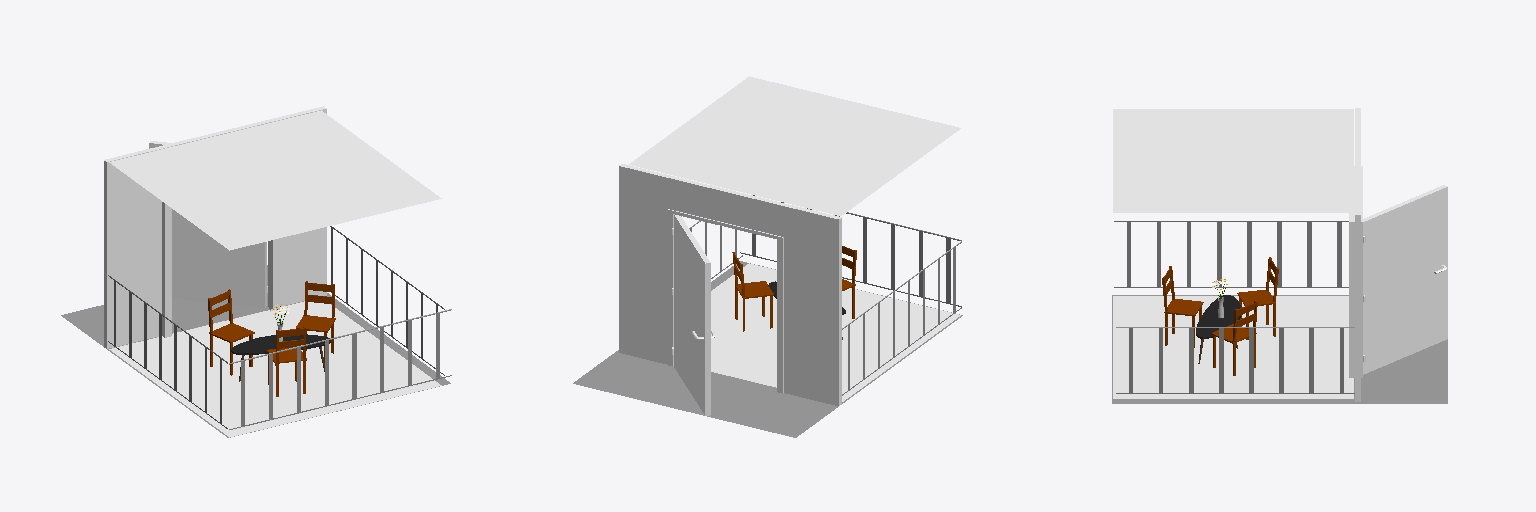
File: Terraza.obj
The picture shows the model from 3 angles: view 1: azimuth 30°, elevation 25°; view 2: azimuth 150°, elevation 25°; view 3: azimuth 270°, elevation 25°; orthographic projection.
Visible parts, largest first — view 1: room_4_9, room_4_8, wall_2_5, sweethome3d_opening_on_hinge_1_door_33, ground_1, Railings_21, frame_25, Railings_16, Railings_11, Table_36; view 2: room_4_9, wall_2_4, room_4_8, ground_1, sweethome3d_opening_on_hinge_1_door_33, frame_25, Railings_21, Railings_16; view 3: room_4_9, room_4_8, sweethome3d_opening_on_hinge_1_door_33, ground_1, Railings_11, Railings_16, frame_25, Table_36, wall_2_4, wall_2_5.
Part boxes in pixels (x1,y1,x2,y2): room_4_9: (109, 110, 441, 250); room_4_8: (109, 301, 441, 437); wall_2_5: (105, 109, 326, 348); sweethome3d_opening_on_hinge_1_door_33: (149, 141, 266, 308); ground_1: (61, 265, 450, 437); Railings_21: (241, 313, 439, 425); frame_25: (162, 202, 279, 337); Railings_16: (114, 281, 221, 423); Railings_11: (331, 227, 437, 358); Table_36: (231, 334, 330, 352); room_4_9: (629, 76, 960, 215); wall_2_4: (619, 166, 840, 405); room_4_8: (711, 263, 960, 401); ground_1: (573, 261, 962, 437); sweethome3d_opening_on_hinge_1_door_33: (674, 215, 710, 415); frame_25: (668, 209, 783, 392); Railings_21: (752, 195, 950, 303); Railings_16: (848, 247, 955, 389); room_4_9: (1113, 109, 1353, 212); room_4_8: (1113, 296, 1353, 398); sweethome3d_opening_on_hinge_1_door_33: (1363, 185, 1447, 374); ground_1: (1112, 295, 1447, 403); Railings_11: (1129, 328, 1343, 392); Railings_16: (1127, 222, 1341, 286); frame_25: (1349, 166, 1362, 377); Table_36: (1196, 295, 1240, 336); wall_2_4: (1358, 215, 1360, 401); wall_2_5: (1355, 215, 1357, 401).
Bounding box in the file's own units: 313 × 250 × 407.